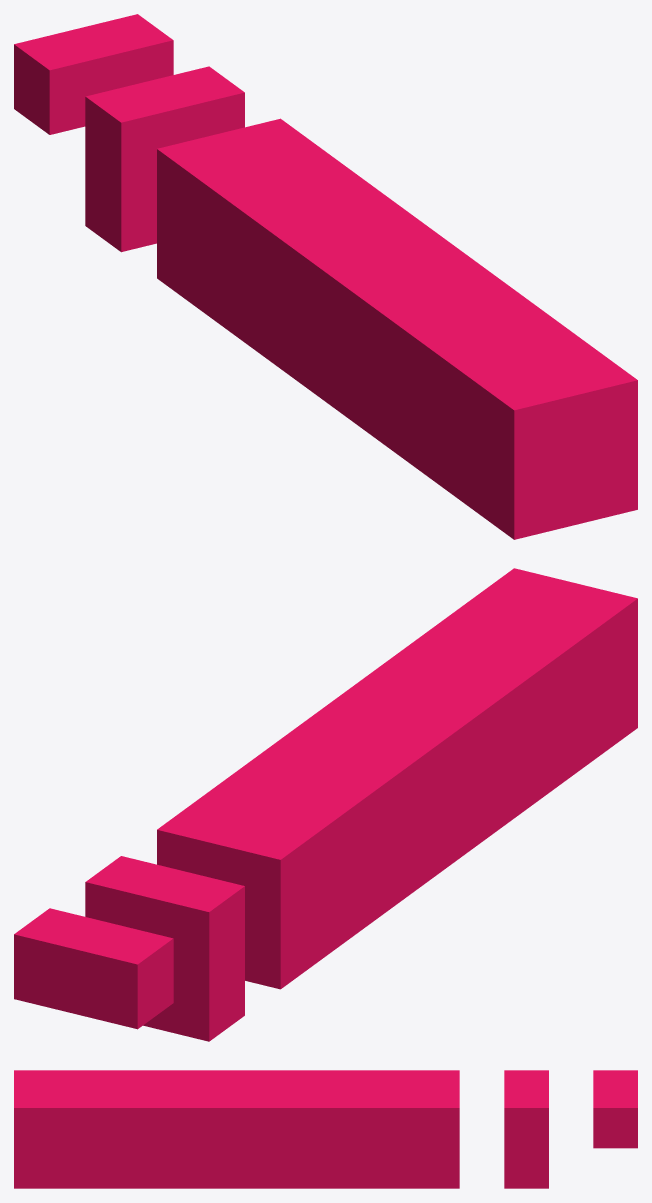
The model's file is Extra-3-UVintruder_EngineFire.obj.
3 renders of one model, top to bottom at view 1: azimuth 30°, elevation 25°; view 2: azimuth 150°, elevation 25°; view 3: azimuth 270°, elevation 25°, orthographic. The views are drawn at different scales.
Visible parts, largest first — view 1: UVintruder_EngineFire; view 2: UVintruder_EngineFire; view 3: UVintruder_EngineFire.
Part boxes in pixels (x1=…): UVintruder_EngineFire: x1=14, y1=14, x2=637, y2=539; UVintruder_EngineFire: x1=14, y1=568, x2=637, y2=1041; UVintruder_EngineFire: x1=14, y1=1070, x2=637, y2=1188.
Size of the model in its own units: 0.2 by 0.2 by 1.4.
Materials: 1 (1 with a texture image).
